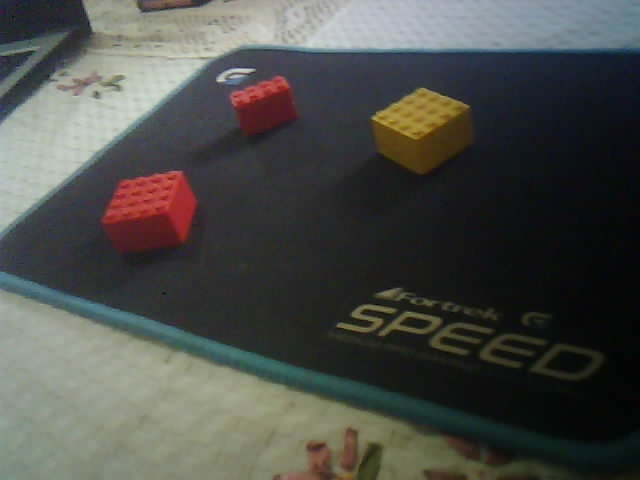lego: (370, 85, 475, 177), (99, 169, 198, 256), (228, 74, 299, 138)
